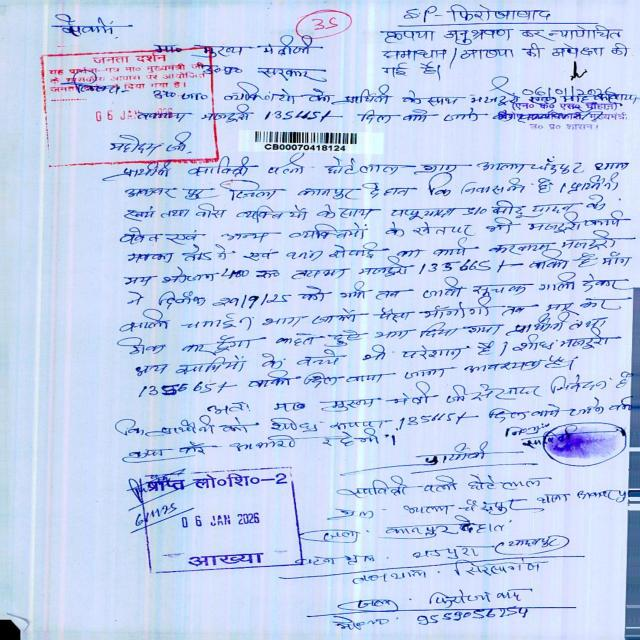antritgovtstamp: (139, 471, 296, 574)
barcode: (230, 120, 391, 163)
fingerprint: (542, 420, 632, 466)
jantadarsan: (38, 45, 216, 164)
signnamestamp: (489, 55, 640, 136)
